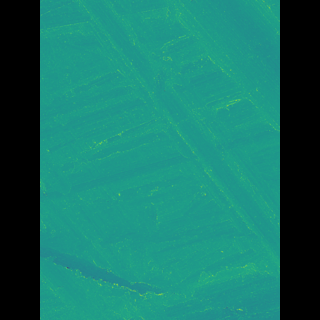Loch: (95, 0, 248, 297), (69, 85, 203, 316)
